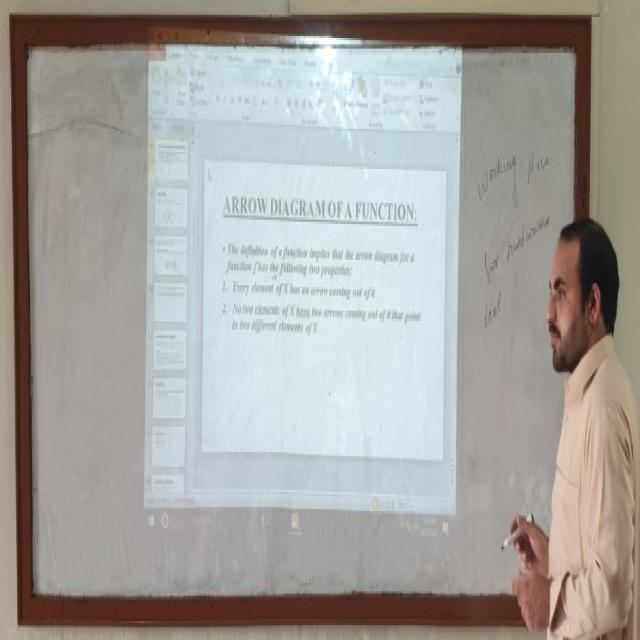Instructor: (528, 196, 633, 640)
Slide: (141, 22, 461, 543)
White-board: (16, 23, 587, 614)
